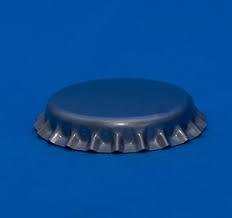Metal: (24, 76, 212, 154)
